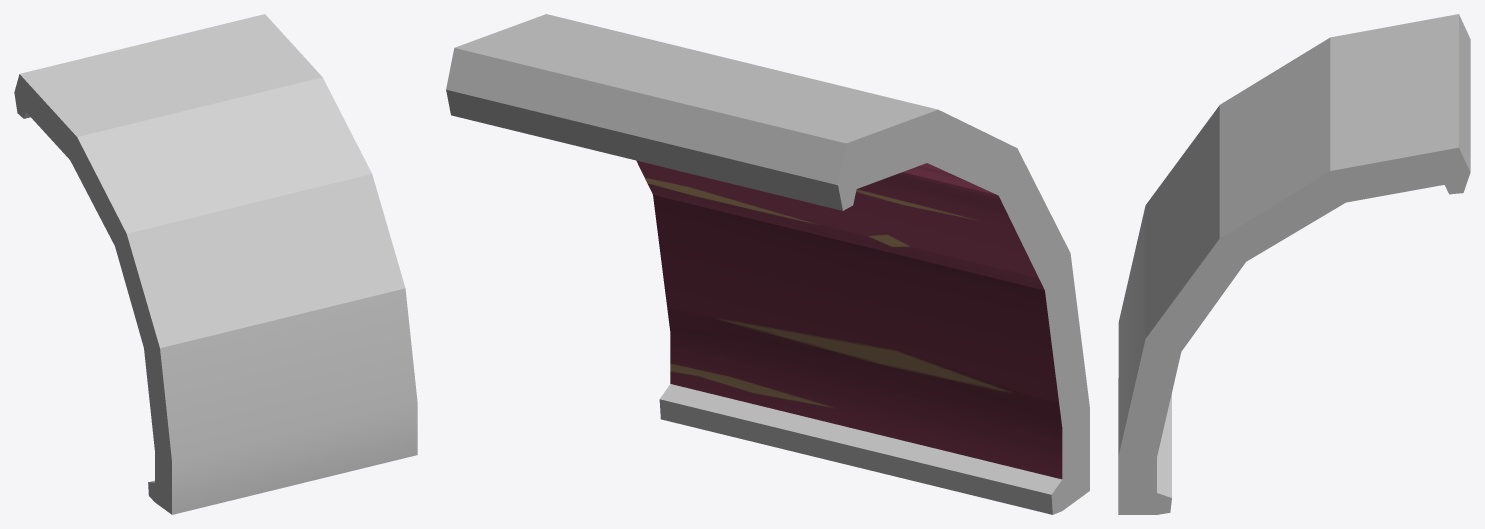
The model's file is SM_Bld_Roof_S_Convex_01.fbx.
3 views of the same model, side by side, from view 1: azimuth 30°, elevation 25°; view 2: azimuth 150°, elevation 25°; view 3: azimuth 270°, elevation 25° (orthographic). The views are drawn at different scales.
Parts seen in each view (by area): view 1: SM_Bld_Roof_S_Convex_01; view 2: SM_Bld_Roof_S_Convex_01; view 3: SM_Bld_Roof_S_Convex_01.
Boxes of the visible parts, x1,y1,x2,y2 form: SM_Bld_Roof_S_Convex_01: (14, 14, 417, 514); SM_Bld_Roof_S_Convex_01: (446, 14, 1089, 514); SM_Bld_Roof_S_Convex_01: (1118, 14, 1470, 514).
Bounding box in the file's own units: 125 × 160 × 139.
